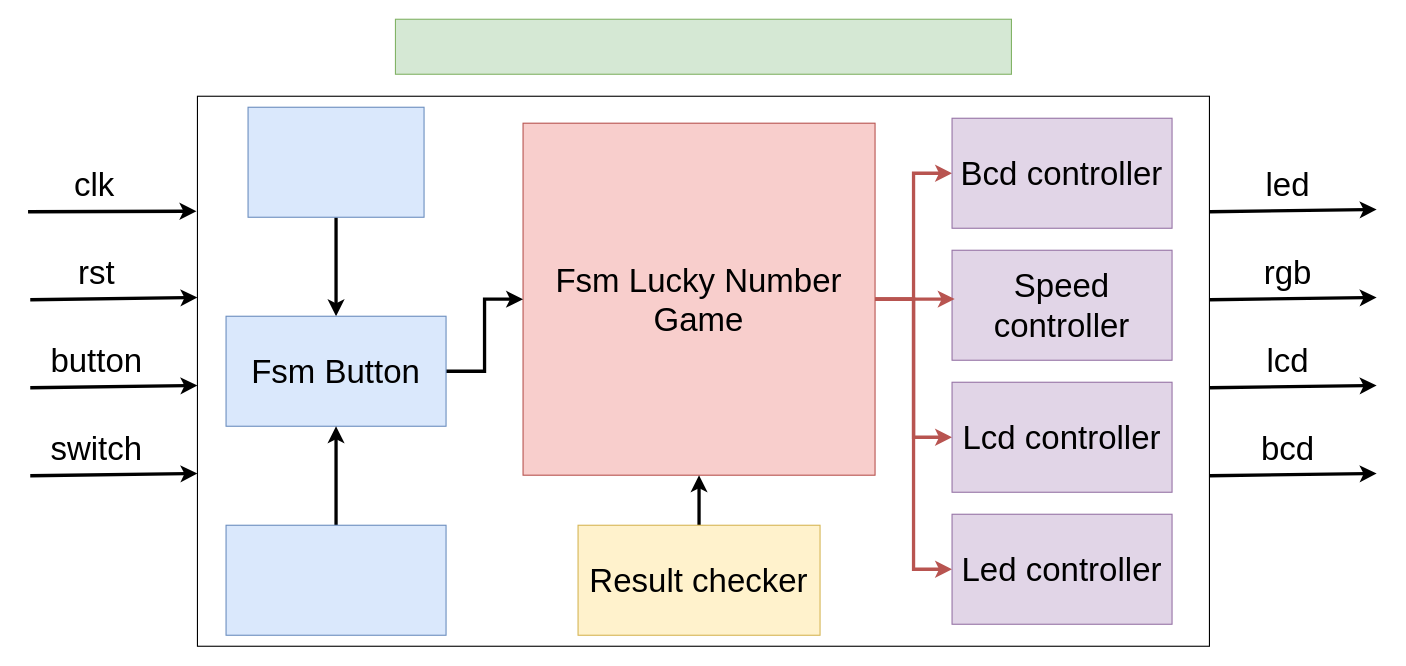
The diagram is 1406 pixels wide and 666 high, and some of its shapes have lost their labels. The shapes that lost their labels are listed below. From the top down, each one's box as (x1, y1, x2, y2) in pixels, then its label:
(394, 18, 1011, 74): Lucky Number Game - Top level module
(247, 106, 424, 217): Frequency Divider
(225, 524, 446, 635): Read button debounce
